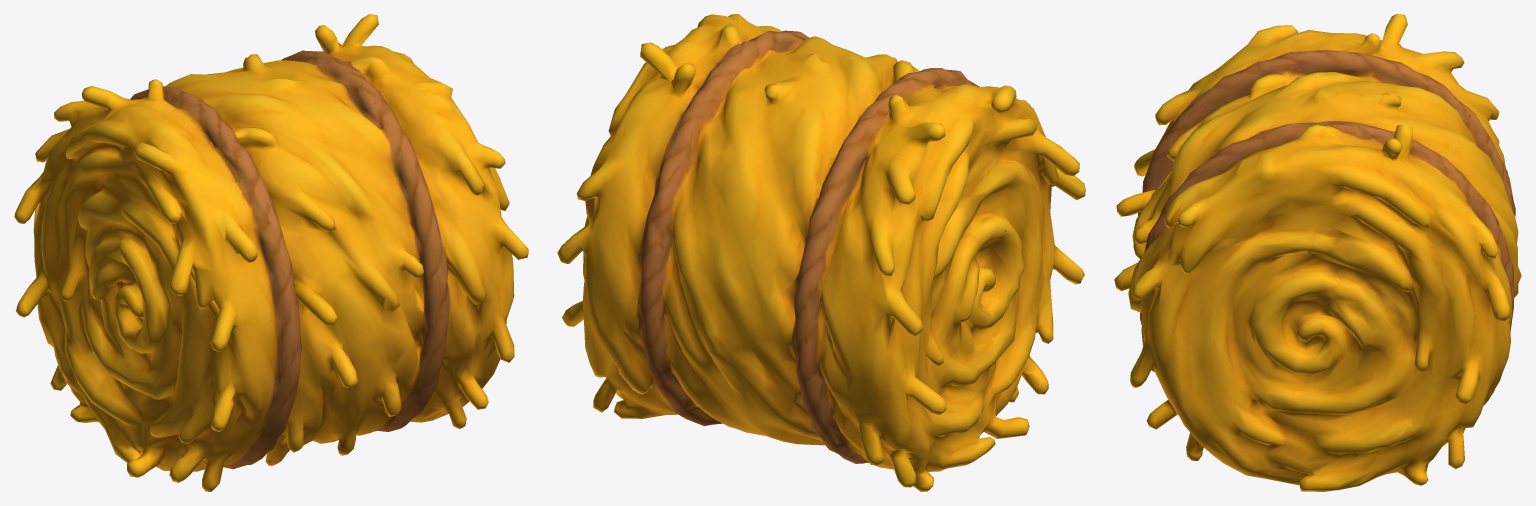
The picture shows the model from 3 angles, left to right: view 1: azimuth 30°, elevation 25°; view 2: azimuth 150°, elevation 25°; view 3: azimuth 270°, elevation 25°; orthographic projection. The views are drawn at different scales.
Parts seen in each view (by area): view 1: hay-bale; view 2: hay-bale; view 3: hay-bale.
Part boxes in pixels (left/top/right/bottom): hay-bale: left=14, top=14, right=528, bottom=491; hay-bale: left=557, top=14, right=1085, bottom=491; hay-bale: left=1114, top=14, right=1521, bottom=491.
Size of the model in its own units: 0.9965 by 0.9548 by 0.9954.
Materials: 1 (1 with a texture image).
